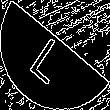L_NE: (31, 26, 79, 84)
